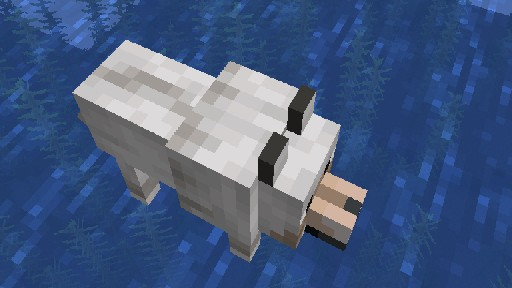wolf: (71, 38, 367, 262)
